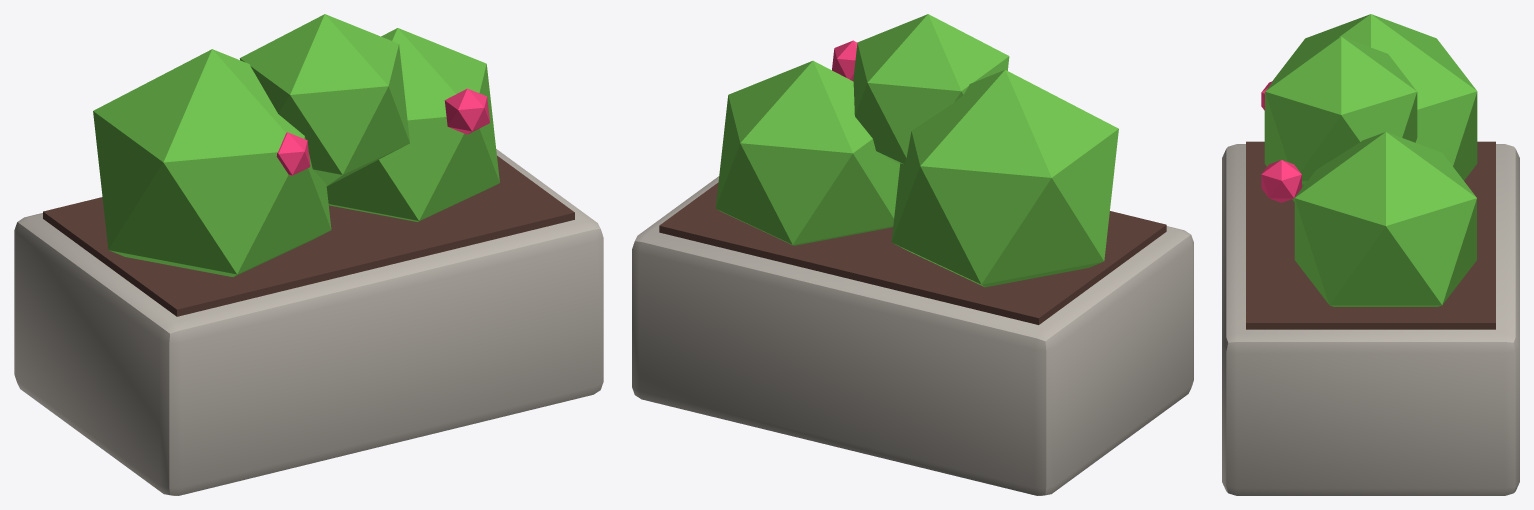
The model's file is parking_planter.glb.
3 renders of one model, left to right at view 1: azimuth 30°, elevation 25°; view 2: azimuth 150°, elevation 25°; view 3: azimuth 270°, elevation 25°, orthographic. The views are drawn at different scales.
Visible parts, largest first — view 1: Planter; view 2: Planter; view 3: Planter.
Part boxes in pixels (x1,y1,x2,y2): Planter: (14, 14, 603, 495); Planter: (632, 14, 1193, 495); Planter: (1222, 14, 1519, 495).
Bounding box in the file's own units: 1.6 × 1.35 × 1.
